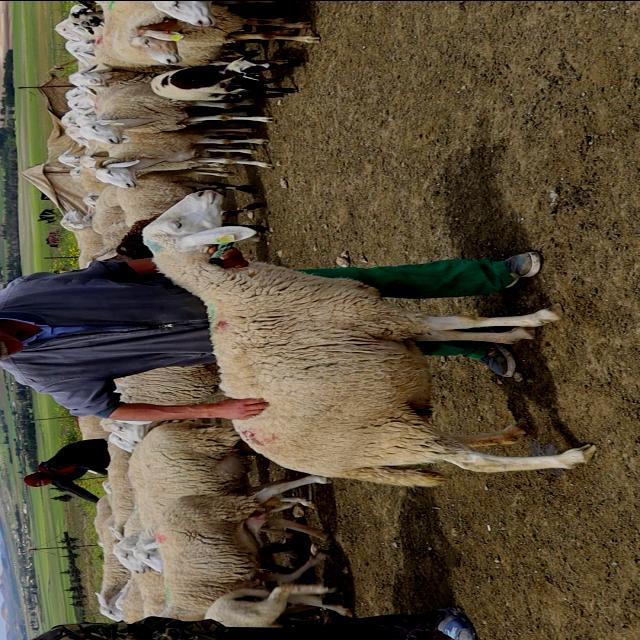Score_5: (142, 189, 596, 486)
